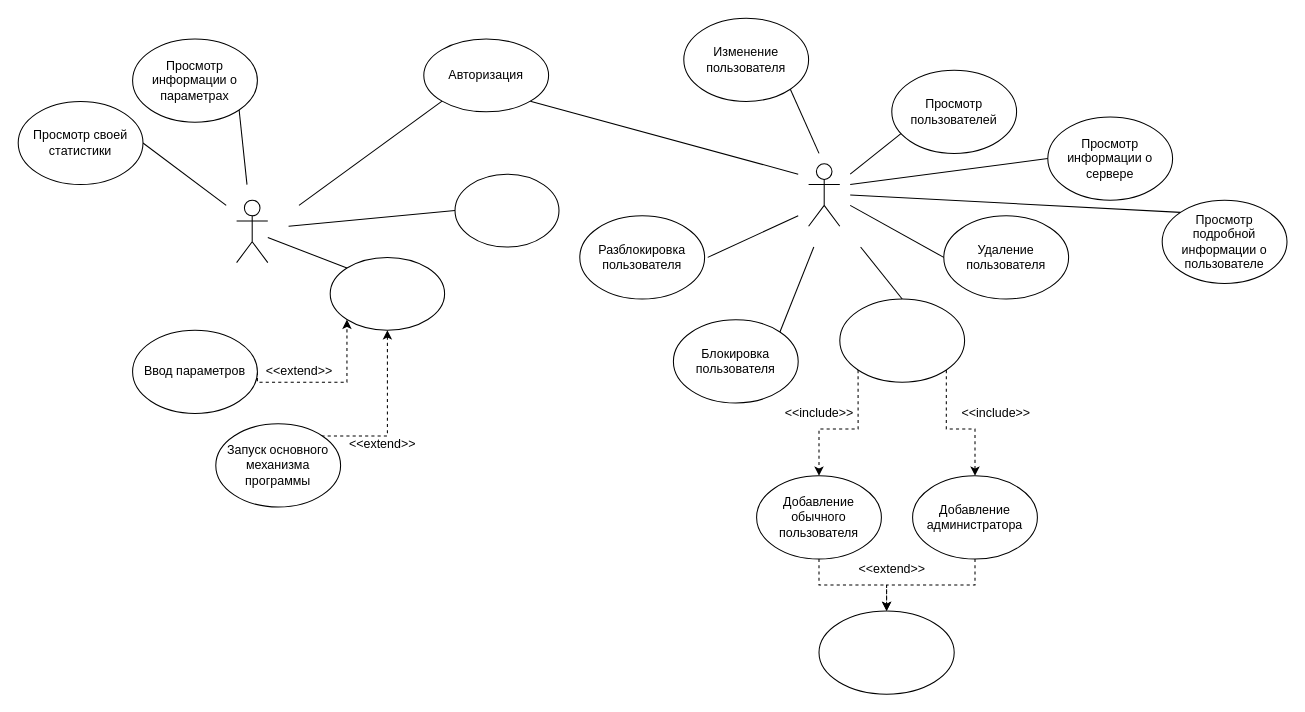
The diagram is 1305 pixels wide and 712 high, and some of its shapes have lost their labels. Each missing label, with the centre of its shape:
Администратор: point (824, 194)
Ввод данных нового пользователя: point (886, 652)
Добавление пользователя: point (902, 340)
Пользователь: point (252, 231)
Прогнозирование цен: point (387, 293)
Регистрация: point (506, 210)
